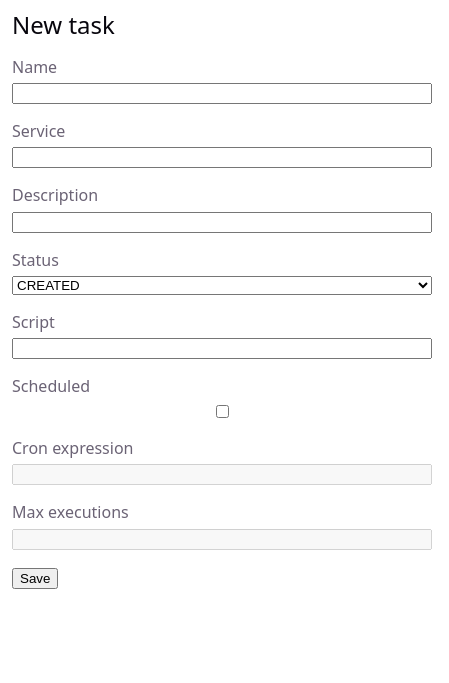
Test: TaskFormPage - create › shows inline errors for every offending field from the 400 response
In the field labelled "Service": (222,158) [12,147,432,168], type "svc"
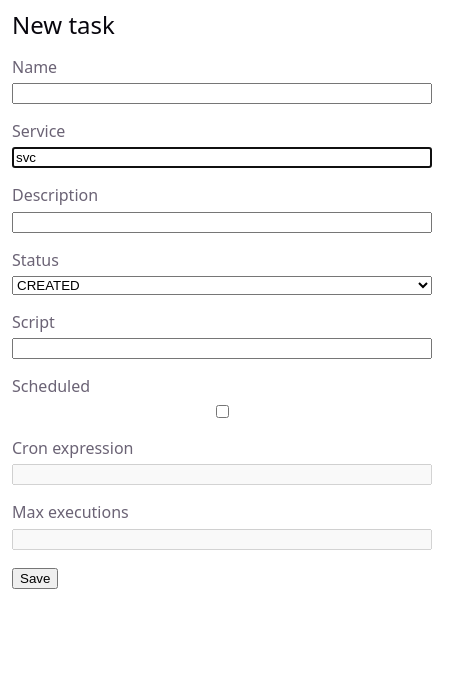
In the field labelled "Script": (222,348) [12,338,432,359], type "/s.sh"
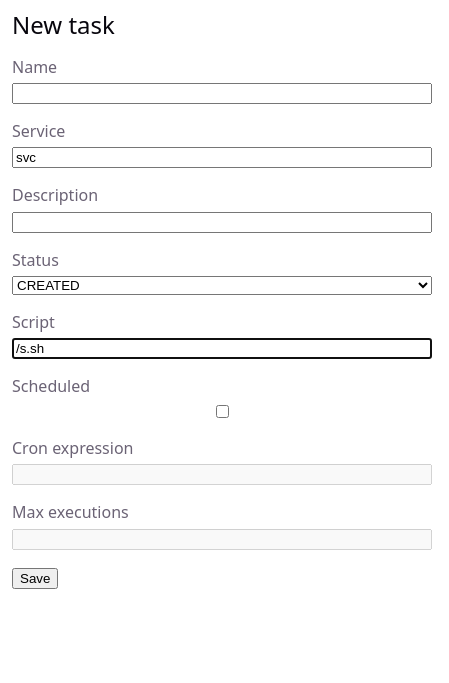
Click the checkbox labelled "Scheduled": (222,412) [16,405,429,418]
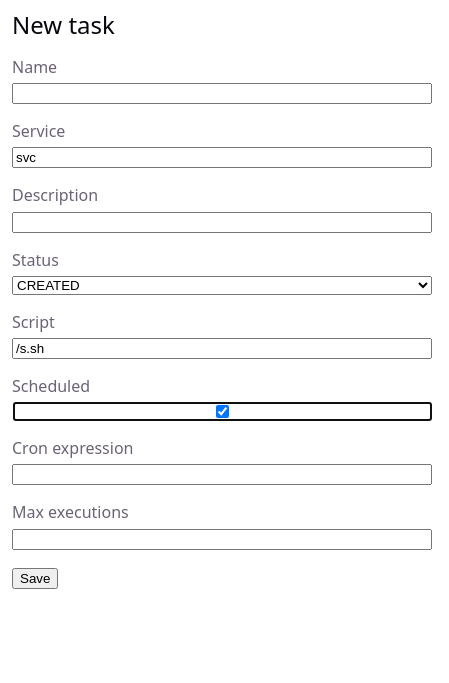
Click the button "Save": (35,578) [12,568,58,589]
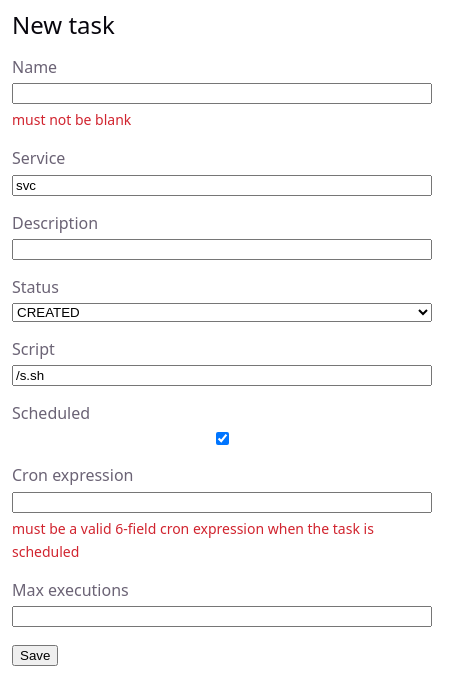
Check: the text "must not be blank" is shown, box [12,110,131,129]
Check: the text "must be a valid 6-field cron expression when the task is scheduled" is shown, box [12,517,432,563]
